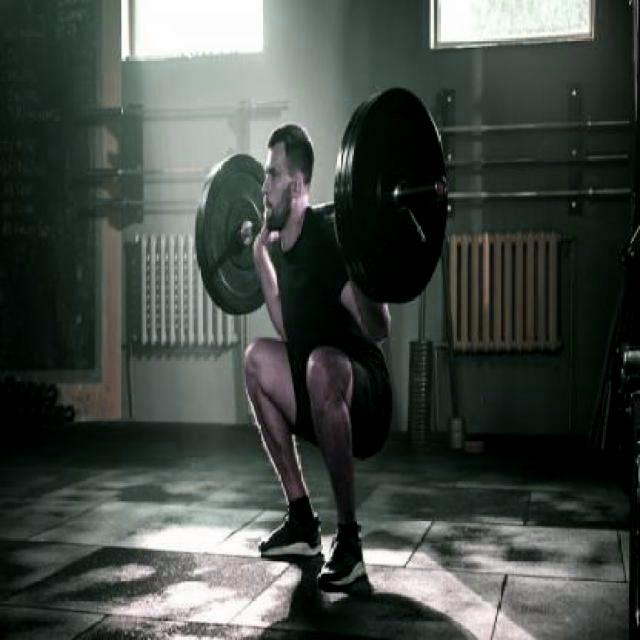barbell: (344, 83, 455, 307)
